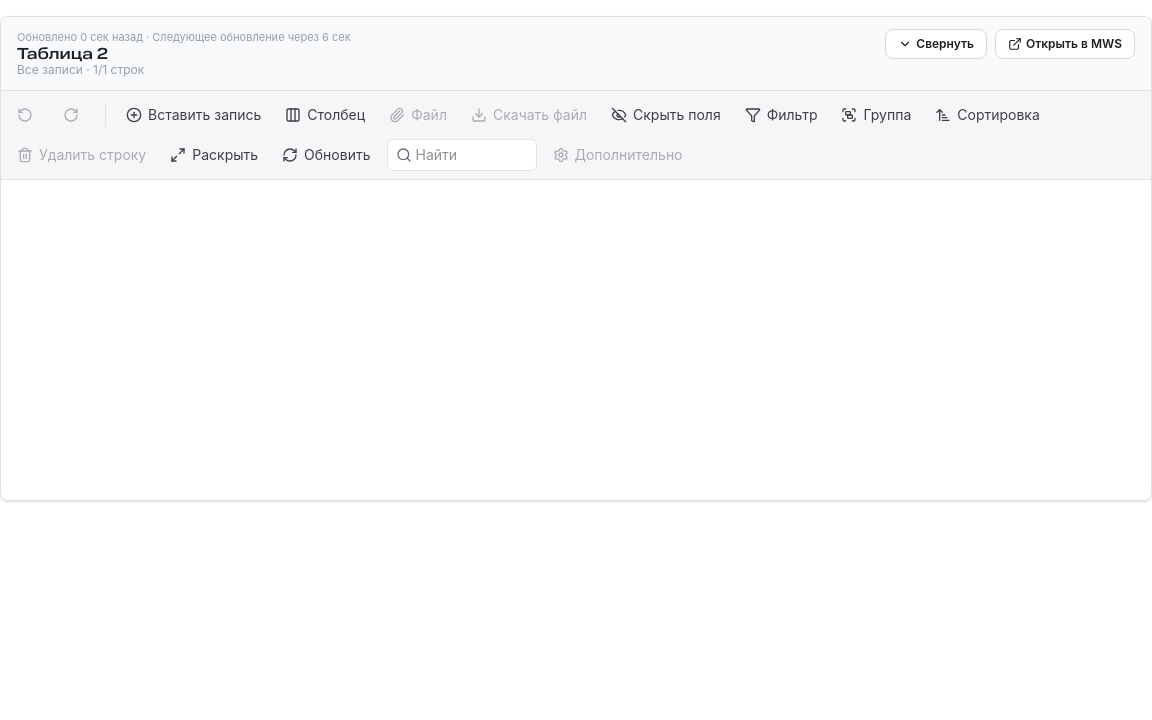
Test: MwsTableEmbedComponent › opens the sort modal from the toolbar
Click the button "Сортировка": (988, 114) x1=927 y1=98 x2=1048 y2=130
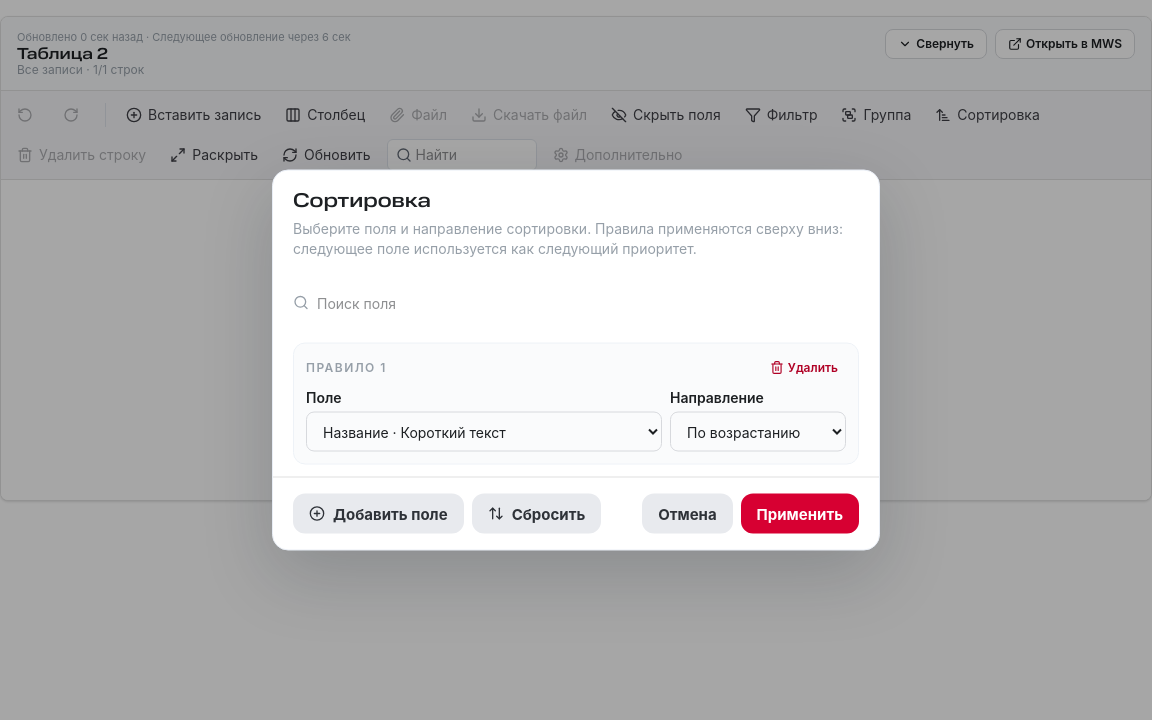
Expected: the dialog "Сортировка" is shown, x1=272 y1=170 x2=880 y2=550
